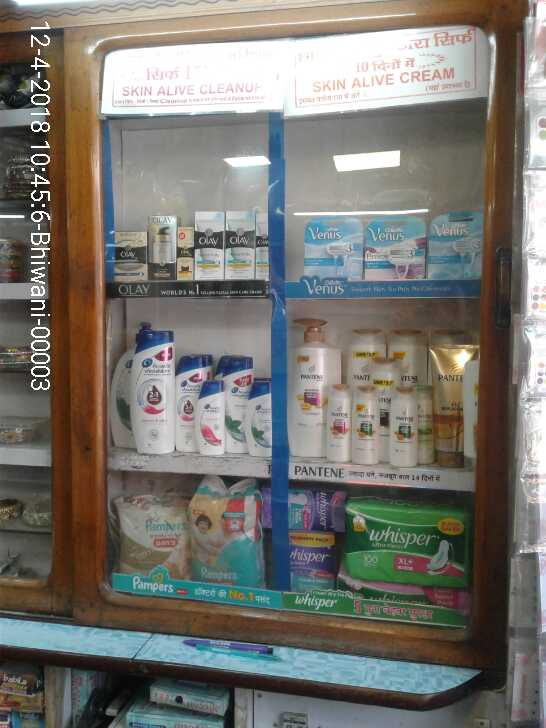venus: (304, 214, 365, 285), (364, 214, 426, 282), (426, 211, 486, 280)
